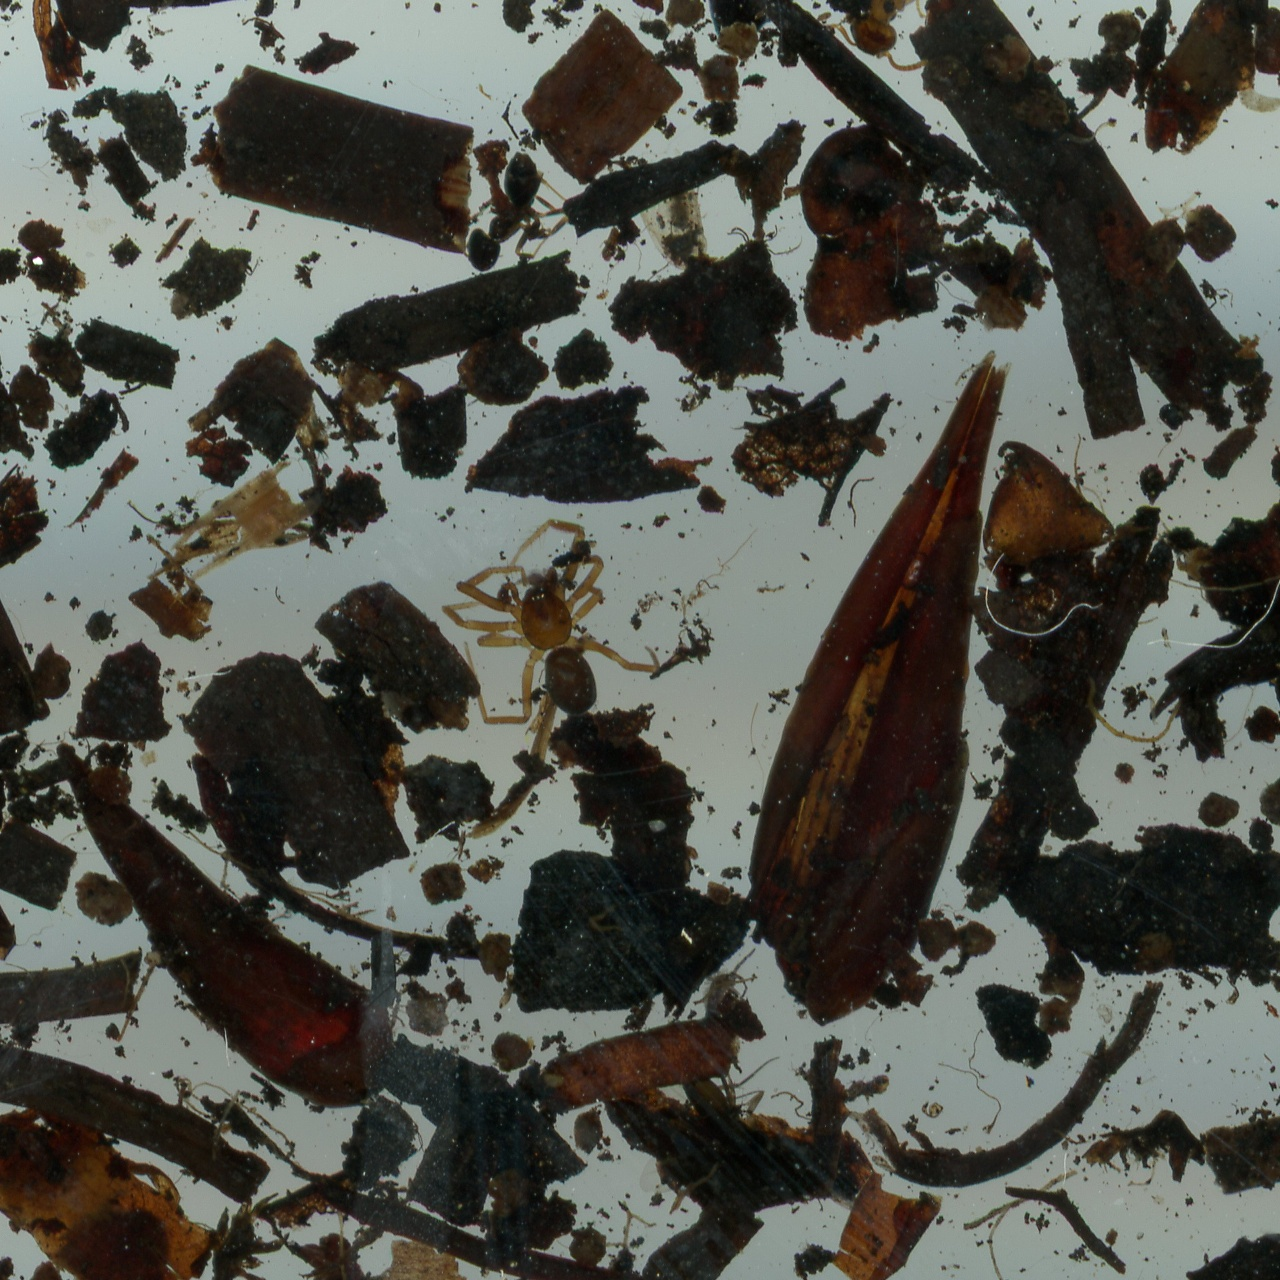arthropod: (440, 516, 664, 726), (465, 152, 573, 273), (832, 0, 975, 72), (704, 947, 762, 1014)
